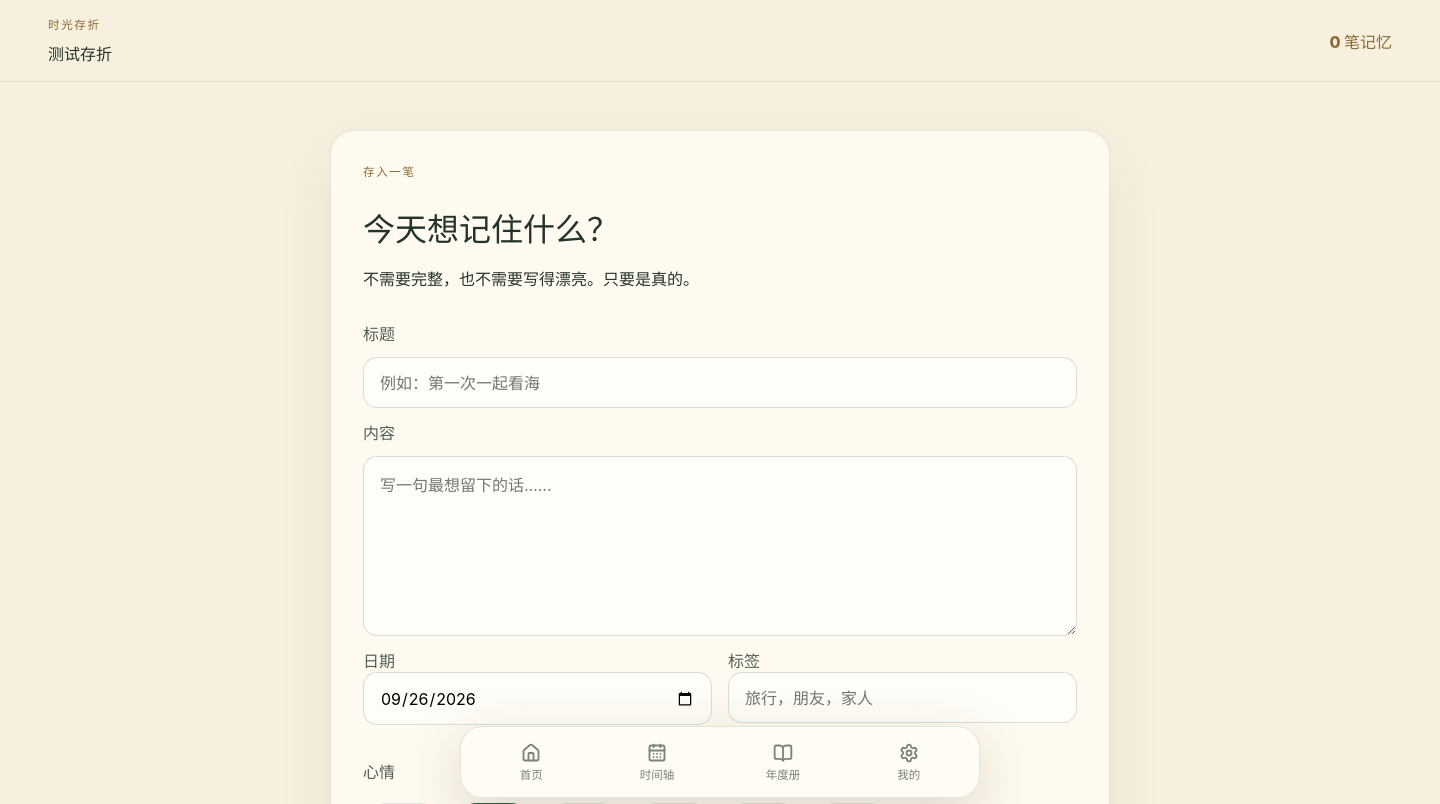
Scenario: new entry › saves a memory and opens the timeline
The image size is (1440, 804).
In the field labelled "标题": (720, 383) [363, 357, 1077, 408], type "第一次一起看海"
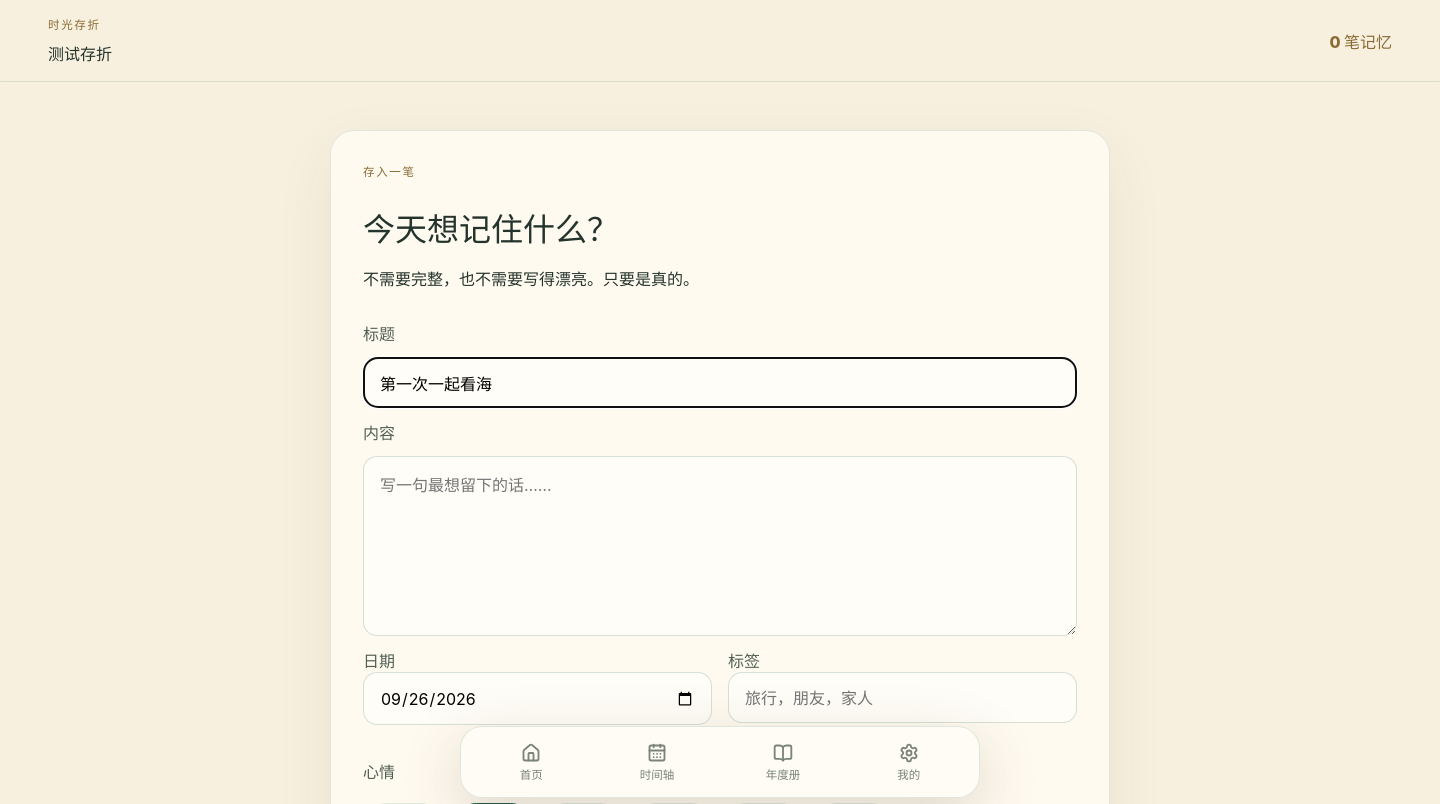
In the text box labelled "内容": (720, 546) [363, 456, 1077, 636], type "风很大，但我们都没有走。"
(page scrolled)
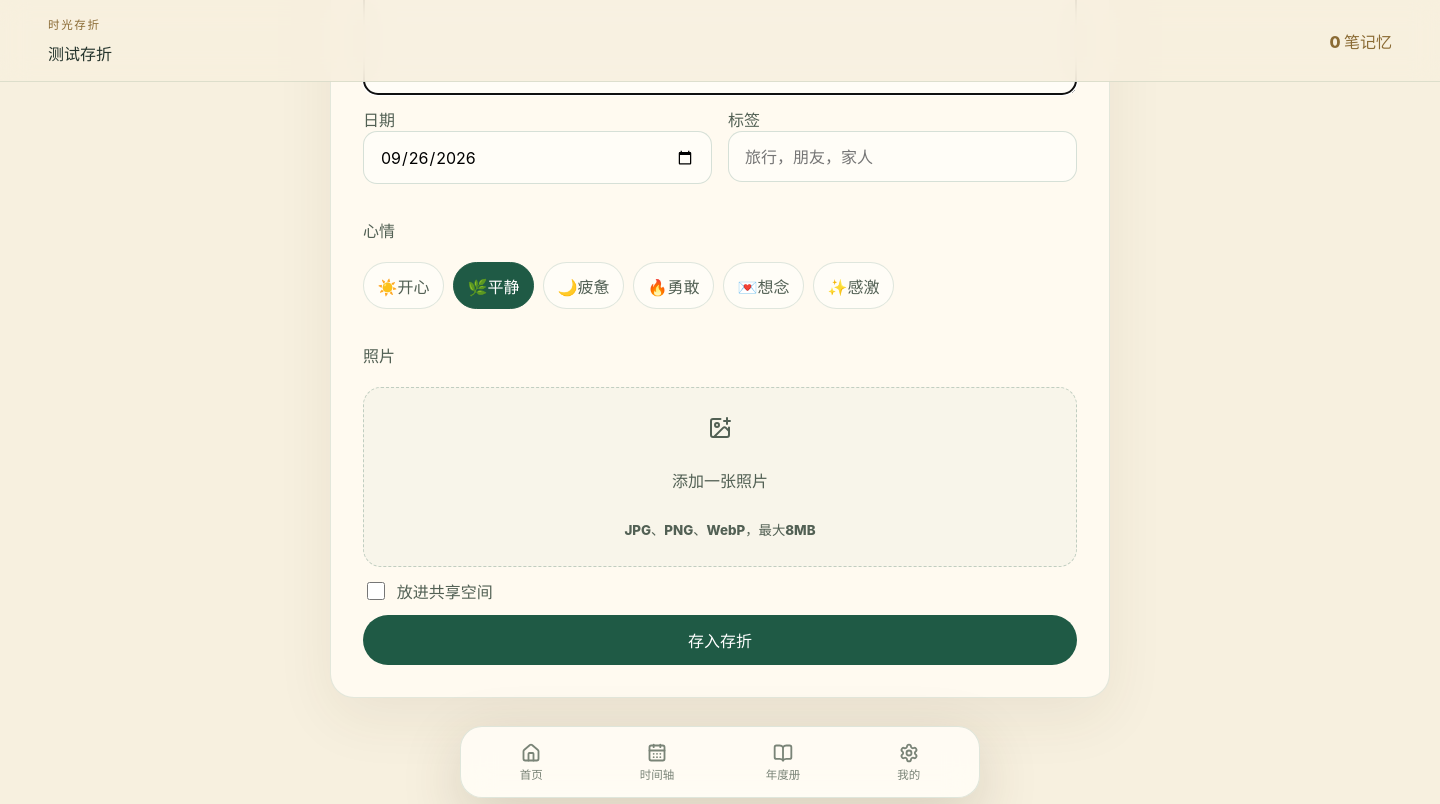
Click the button "存入存折": (720, 640) [363, 616, 1077, 666]
(page scrolled)
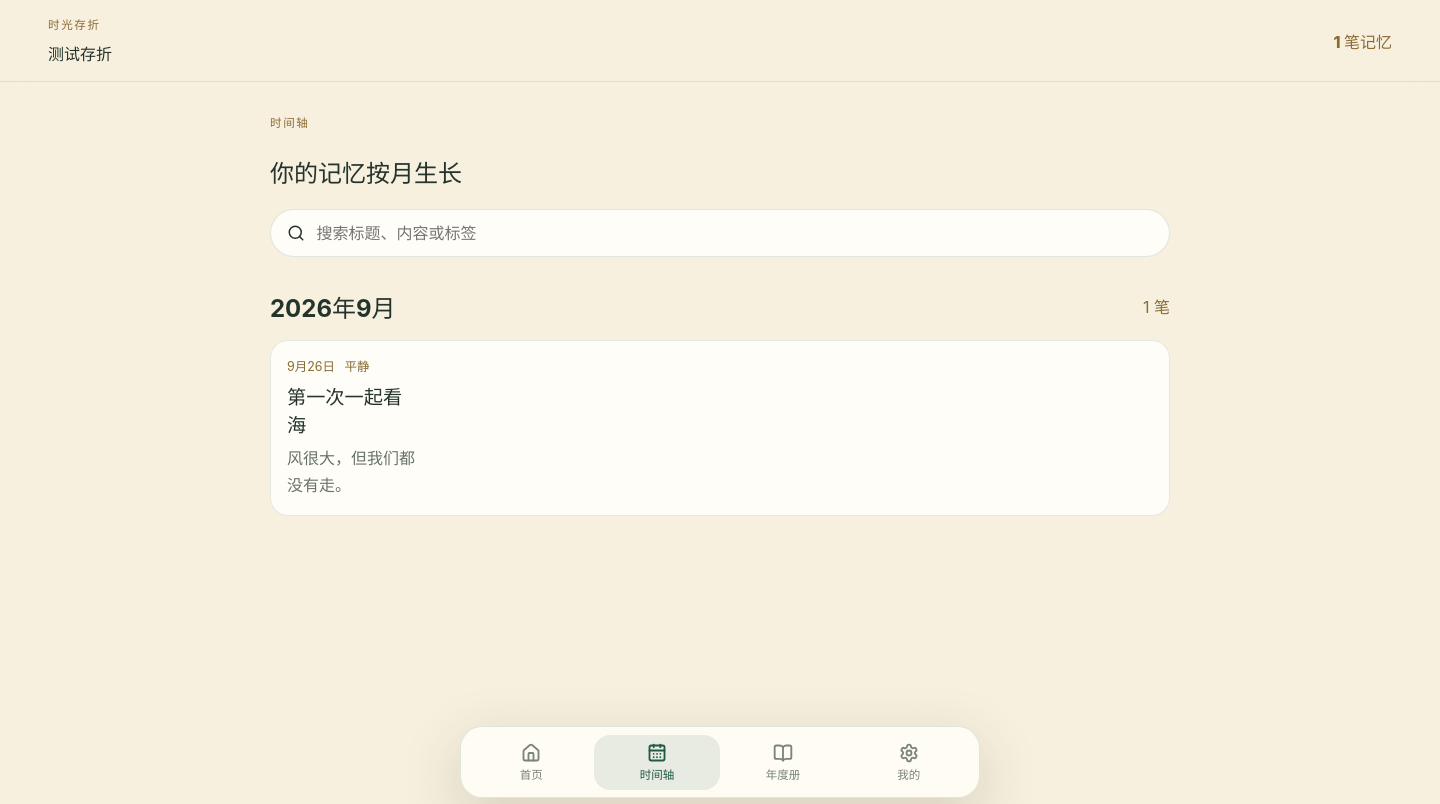
Expected: the heading "第一次一起看海" is shown, [287, 382, 415, 438]
Expected: the text "风很大，但我们都没有走。" is shown, [287, 445, 415, 499]
